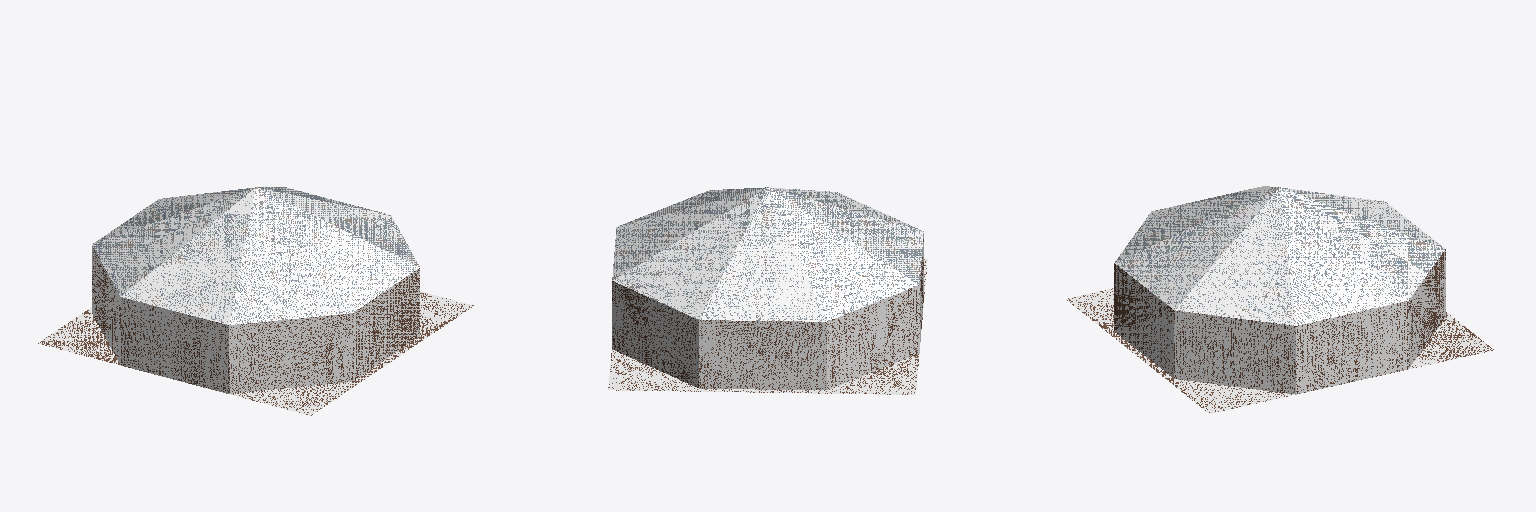
3 renders of one model, left to right at view 1: azimuth 30°, elevation 25°; view 2: azimuth 150°, elevation 25°; view 3: azimuth 270°, elevation 25°, orthographic.
Parts seen in each view (by area): view 1: Mesh1 Tour_romane_du_transept Model; view 2: Mesh1 Tour_romane_du_transept Model; view 3: Mesh1 Tour_romane_du_transept Model.
Part boxes in pixels (left/top/right/bottom): Mesh1 Tour_romane_du_transept Model: left=38, top=187, right=473, bottom=415; Mesh1 Tour_romane_du_transept Model: left=608, top=187, right=927, bottom=394; Mesh1 Tour_romane_du_transept Model: left=1066, top=186, right=1493, bottom=413.
Bounding box in the file's own units: 22.35 × 8 × 22.67.
Materials: 4 (1 with a texture image).